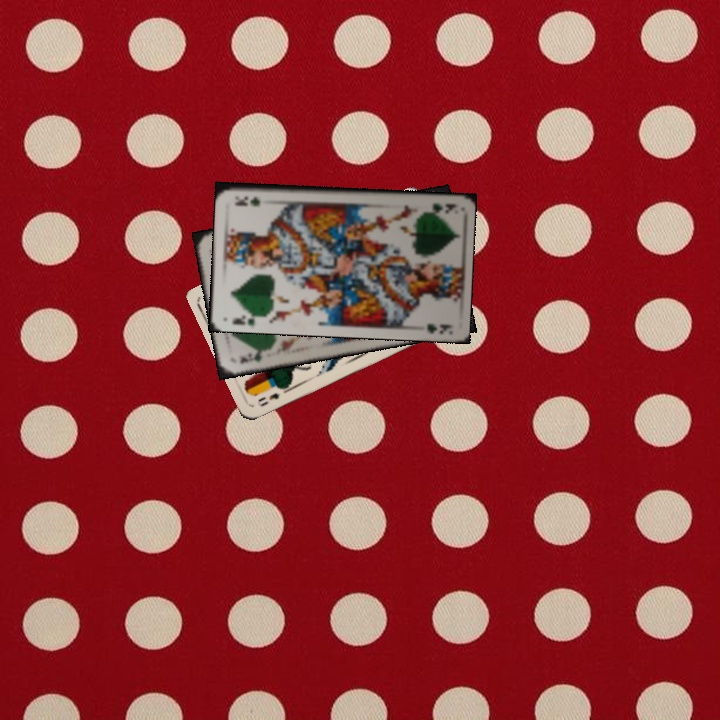EO: (254, 383, 289, 409)
GK: (228, 308, 265, 328), (236, 345, 271, 366), (419, 200, 459, 216)
